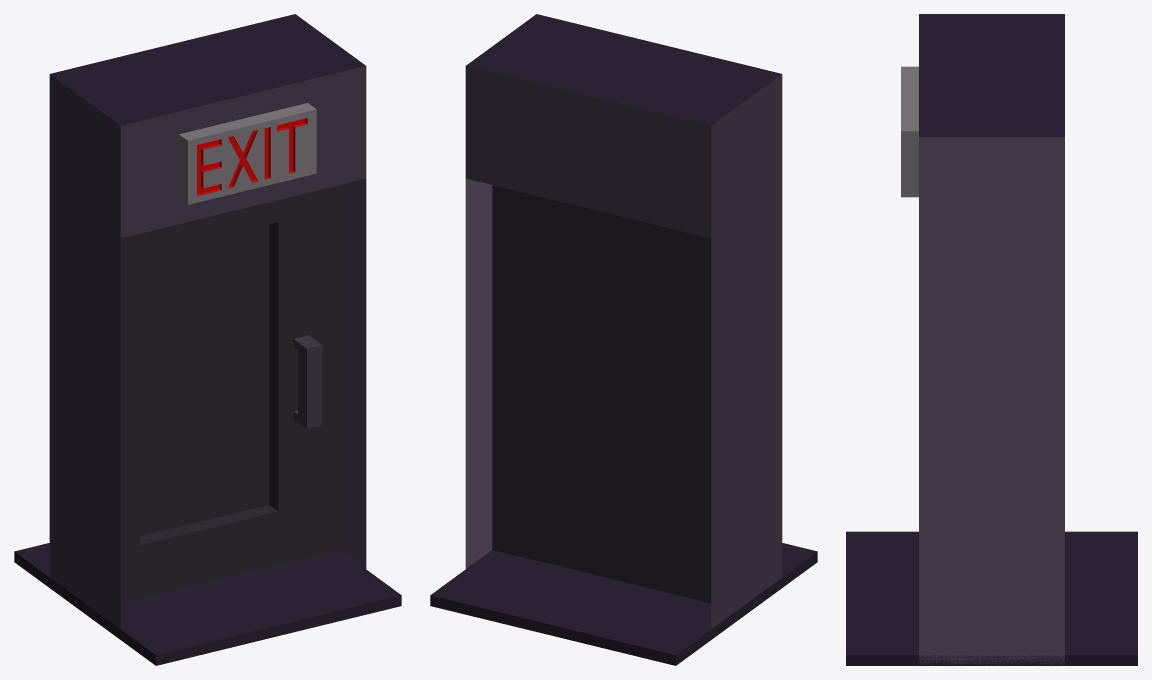
Rendered from backExit.dae.
The picture shows the model from 3 angles, left to right: view 1: azimuth 30°, elevation 25°; view 2: azimuth 150°, elevation 25°; view 3: azimuth 270°, elevation 25°; orthographic projection. The views are drawn at different scales.
Parts seen in each view (by area): view 1: backExit_MSH; view 2: backExit_MSH; view 3: backExit_MSH.
Part boxes in pixels (x1,y1,x2,y2): backExit_MSH: (14,14,401,665); backExit_MSH: (430,14,817,665); backExit_MSH: (846,14,1137,665).
Bounding box in the file's own units: 1 × 2 × 1.
